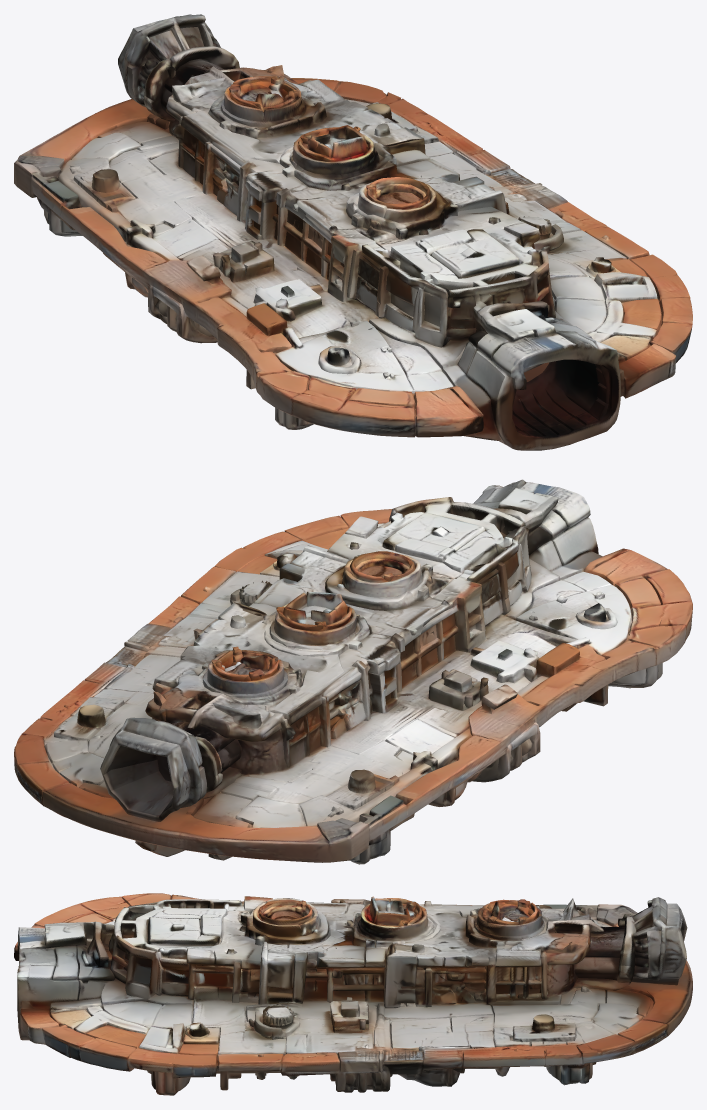
File: freighter.glb
3 views of the same model, one above another, from view 1: azimuth 30°, elevation 25°; view 2: azimuth 150°, elevation 25°; view 3: azimuth 270°, elevation 25° (orthographic). The views are drawn at different scales.
Parts seen in each view (by area): view 1: model; view 2: model; view 3: model.
Part boxes in pixels (x1,y1,x2,y2): model: [14, 14, 692, 450]; model: [14, 479, 692, 864]; model: [14, 893, 692, 1095].
Size of the model in its own units: 1.14 by 0.4475 by 1.91.
1 material, 1 textured.
